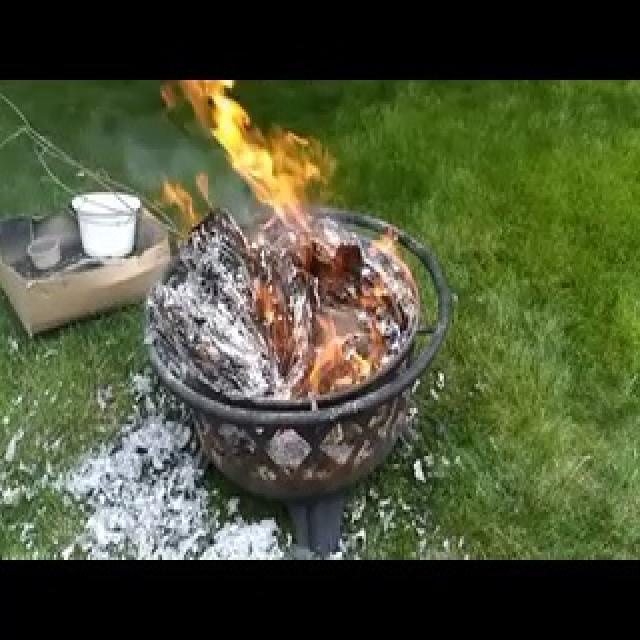fire: (159, 117, 393, 400)
